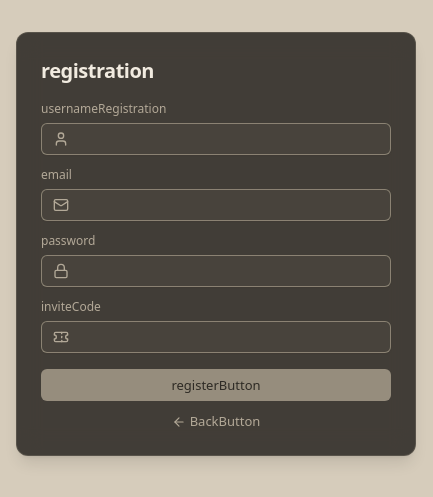
Test case: Registration outcomes › explains a rejection saying bad_form
The image size is (433, 497).
Type "reader" into the field labelled "usernameRegistration". click: [216, 139]
box: [41,123,391,155]
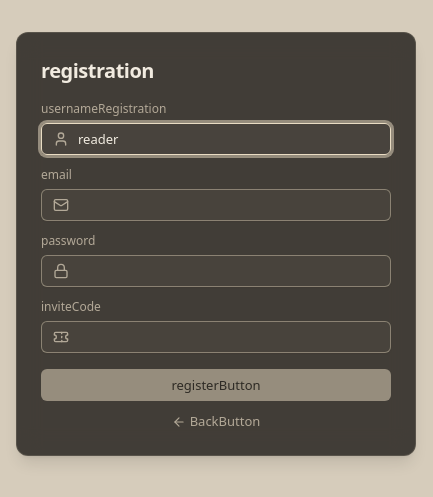
Type "reader@example.com" into the field labelled "email". click: [216, 205]
box: [41,189,391,221]
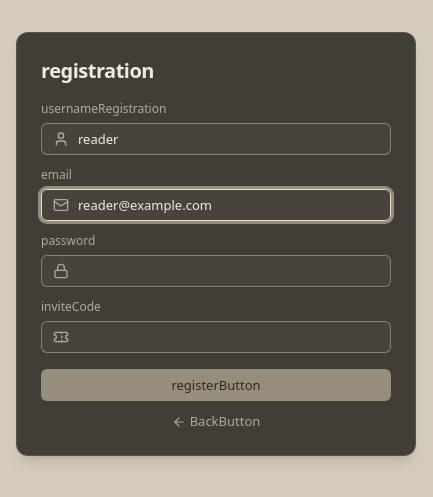
Type "secret" into the password field labelled "password". click: [216, 271]
box: [41,255,391,287]
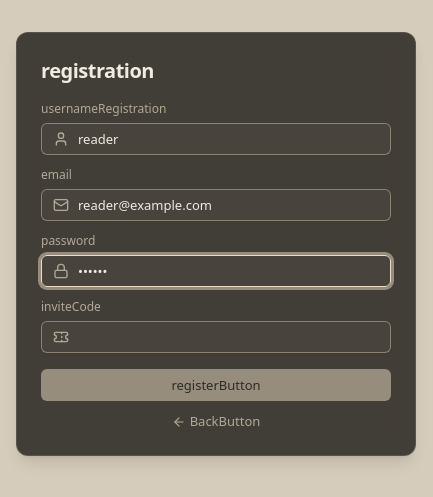
Type "invite" into the field labelled "inviteCode". click: [216, 337]
box: [41,321,391,353]
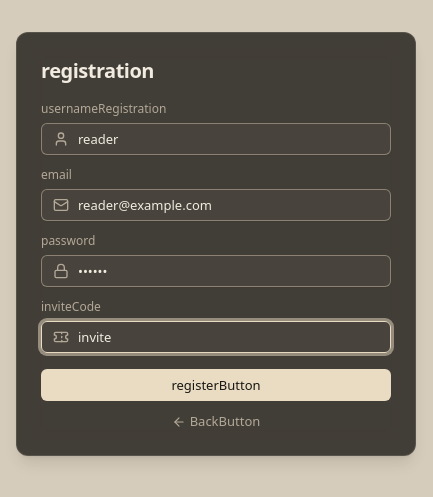
Click the button "registerButton". click: [216, 385]
box: [41,369,391,401]
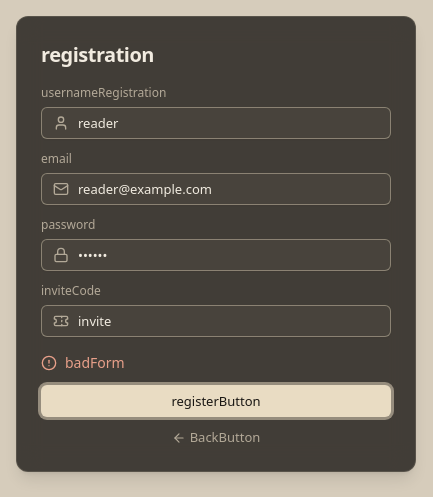
Result: the message reads "badForm" at [65,353,125,372]
